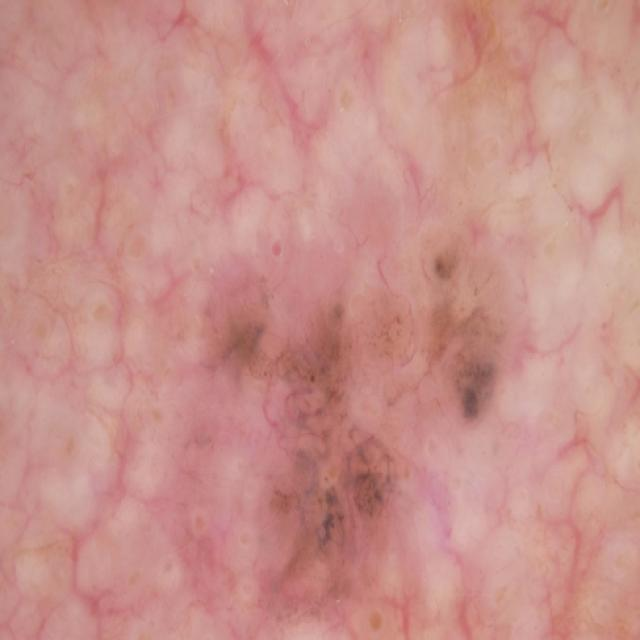Carcinoma: (200, 242, 576, 598)
